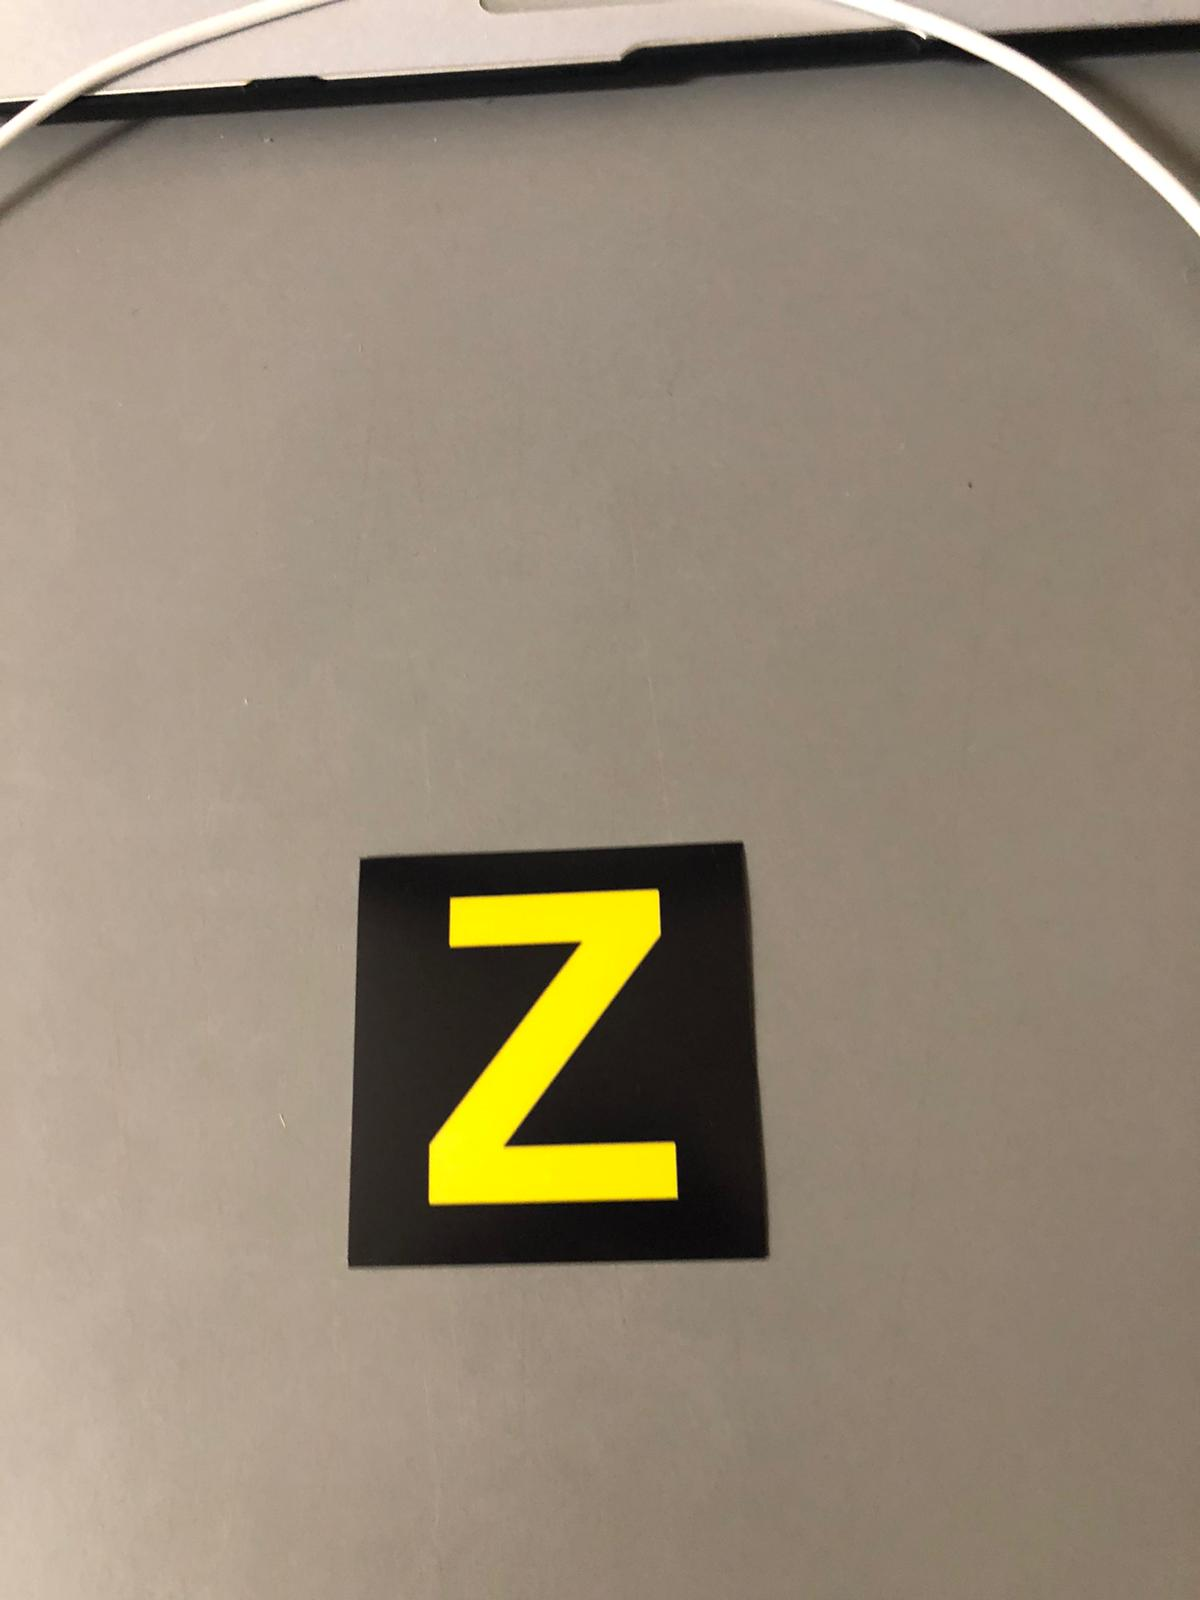Z: (366, 863, 734, 1254)
